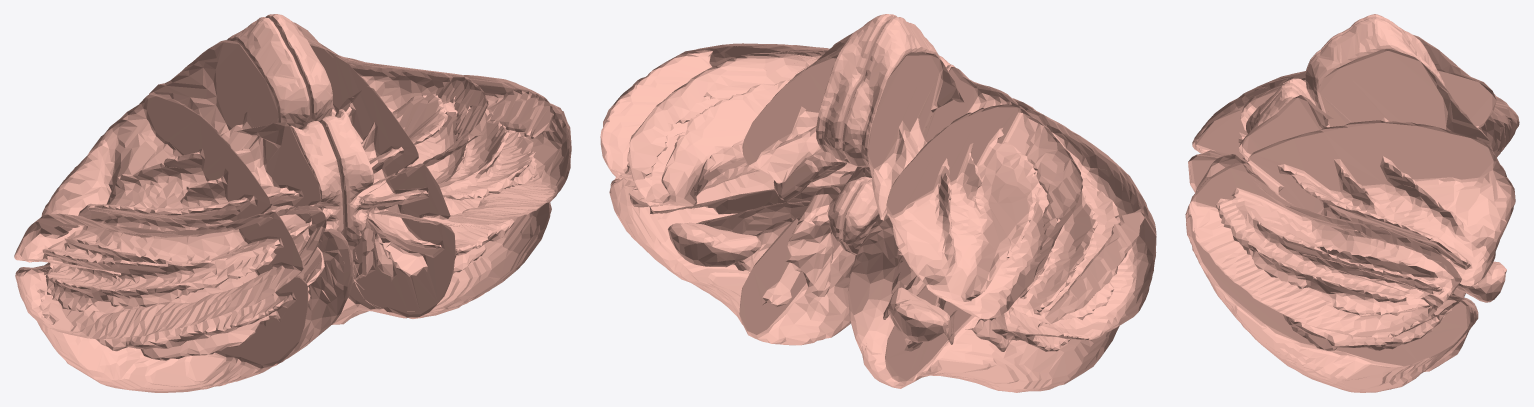
Rendered from cerebellum.glb.
3 views of the same model, side by side, from view 1: azimuth 30°, elevation 25°; view 2: azimuth 150°, elevation 25°; view 3: azimuth 270°, elevation 25° (orthographic). The views are drawn at different scales.
Visible parts, largest first — view 1: cerebellar_hemisphere_lh, cerebellar_hemisphere_rh, vermis; view 2: cerebellar_hemisphere_lh, cerebellar_hemisphere_rh, vermis, dentate_rh; view 3: cerebellar_hemisphere_rh, cerebellar_hemisphere_lh, vermis.
Part boxes in pixels (left/top/right/bottom): cerebellar_hemisphere_lh: left=14, top=40, right=353, bottom=392; cerebellar_hemisphere_rh: left=293, top=22, right=571, bottom=324; vermis: left=226, top=14, right=376, bottom=271; cerebellar_hemisphere_lh: left=847, top=52, right=1156, bottom=392; cerebellar_hemisphere_rh: left=600, top=33, right=863, bottom=345; vermis: left=816, top=14, right=955, bottom=254; dentate_rh: left=773, top=151, right=846, bottom=200; cerebellar_hemisphere_rh: left=1185, top=49, right=1515, bottom=392; cerebellar_hemisphere_lh: left=1188, top=35, right=1519, bottom=297; vermis: left=1246, top=14, right=1445, bottom=133.
Bounding box in the file's own units: 135 × 82.91 × 77.24.
